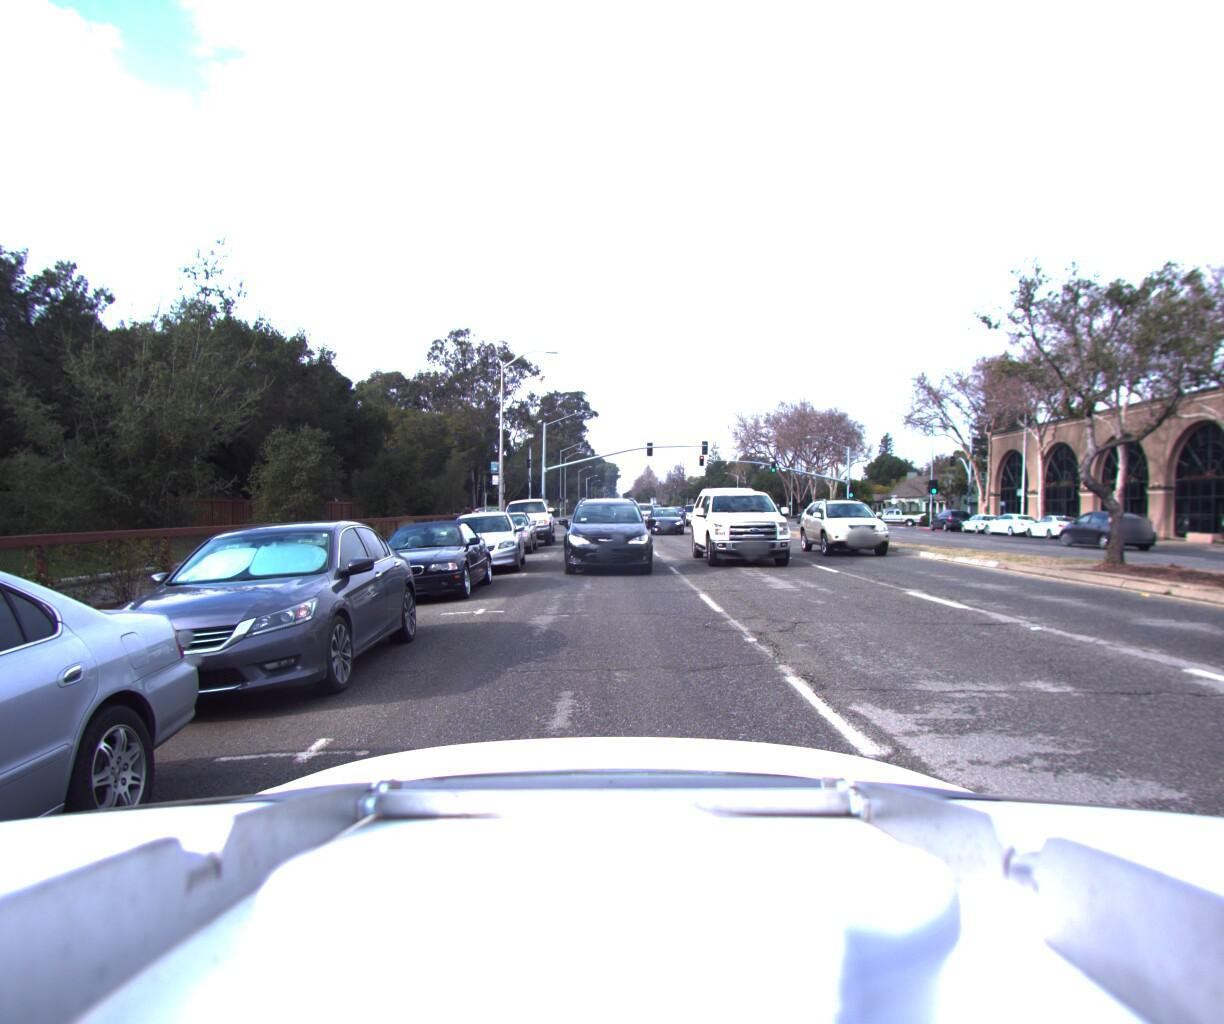car: (0, 531, 221, 1024), (51, 513, 432, 735), (351, 515, 497, 605), (692, 472, 810, 573), (804, 489, 914, 556), (567, 493, 655, 577), (436, 507, 527, 577), (1034, 505, 1136, 544), (496, 493, 554, 546), (477, 507, 539, 555), (1018, 510, 1085, 538), (985, 510, 1047, 536), (648, 495, 691, 531), (955, 507, 1004, 532), (924, 506, 971, 530), (631, 502, 660, 527)
